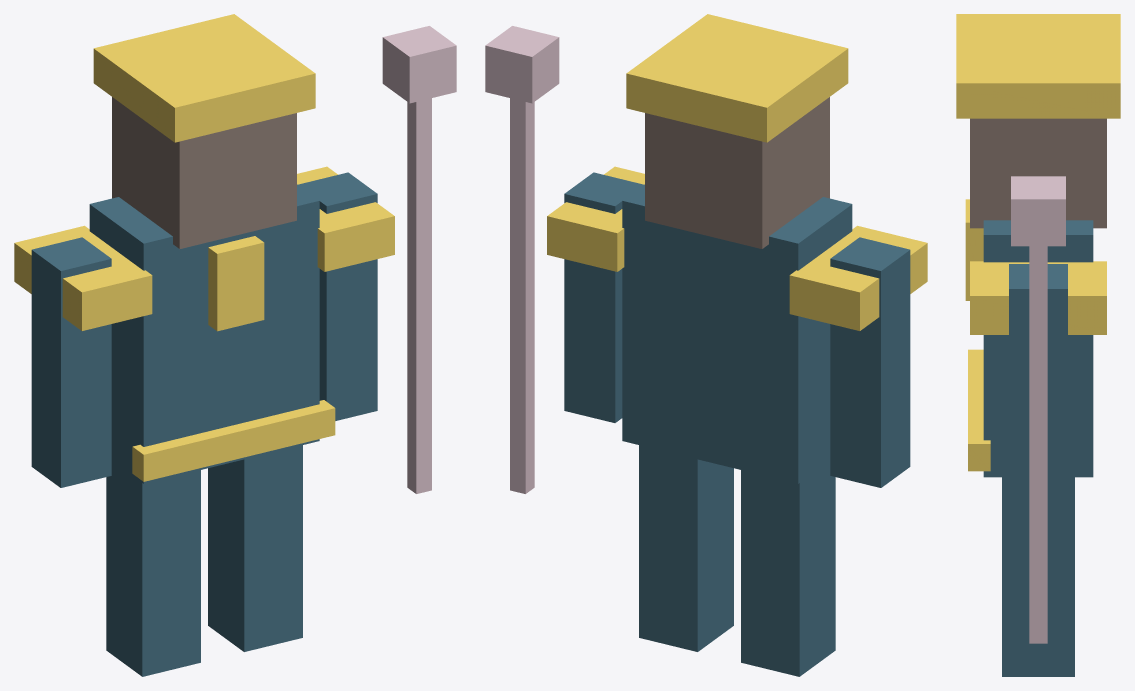
The model's file is 16_orin_dubwater_cartographer_near_chainlift.glb.
The picture shows the model from 3 angles, left to right: view 1: azimuth 30°, elevation 25°; view 2: azimuth 150°, elevation 25°; view 3: azimuth 270°, elevation 25°; orthographic projection.
Parts seen in each view (by area): view 1: Orin Dubwater, Cartographer near Chainlift; view 2: Orin Dubwater, Cartographer near Chainlift; view 3: Orin Dubwater, Cartographer near Chainlift.
Boxes of the visible parts, x1=… form: Orin Dubwater, Cartographer near Chainlift: x1=14, y1=14, x2=456, y2=676; Orin Dubwater, Cartographer near Chainlift: x1=485, y1=14, x2=927, y2=676; Orin Dubwater, Cartographer near Chainlift: x1=956, y1=14, x2=1120, y2=676.
Bounding box in the file's own units: 1.01 × 1.42 × 0.3577.
